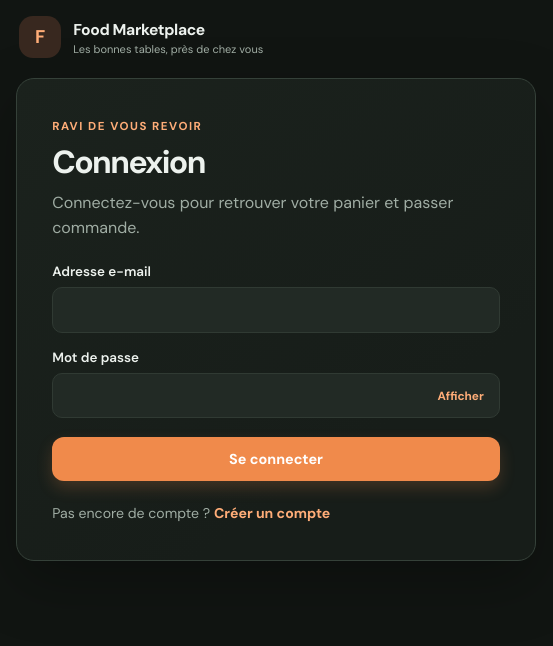
Test: LoginPage › shows a clear error for invalid credentials
Type "client@example.com" into the field labelled "Adresse e-mail" at (276, 310), box [52, 287, 500, 333]
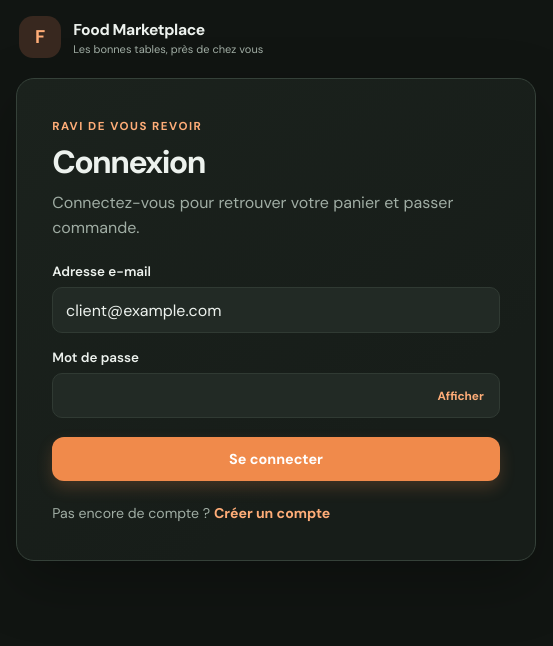
Type "wrong-password" into the password field labelled "Mot de passe" at (276, 396), box [52, 373, 500, 418]
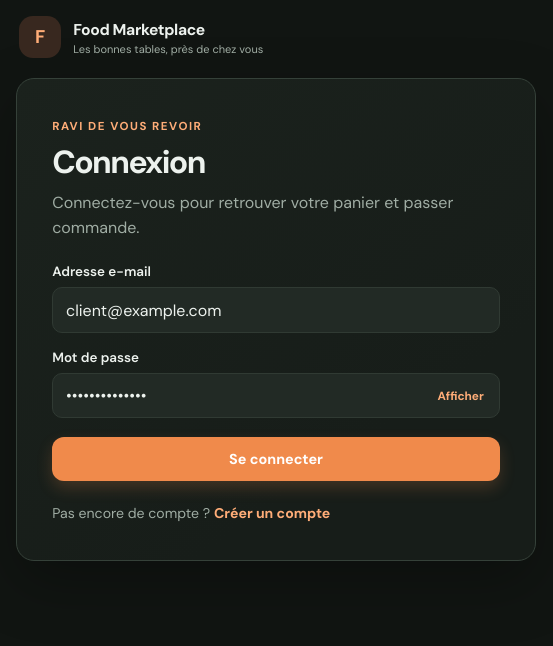
Click the button "Se connecter" at (276, 459), box [52, 437, 500, 481]
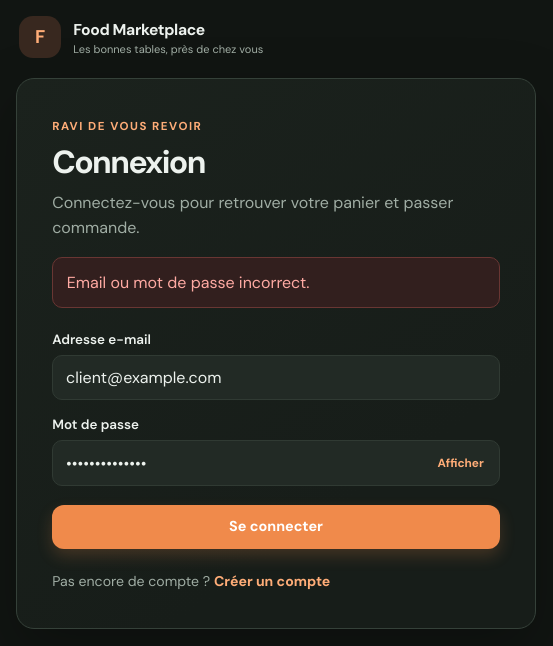
Check: the message reads "Email ou mot de passe incorrect.", box [67, 272, 310, 293]
